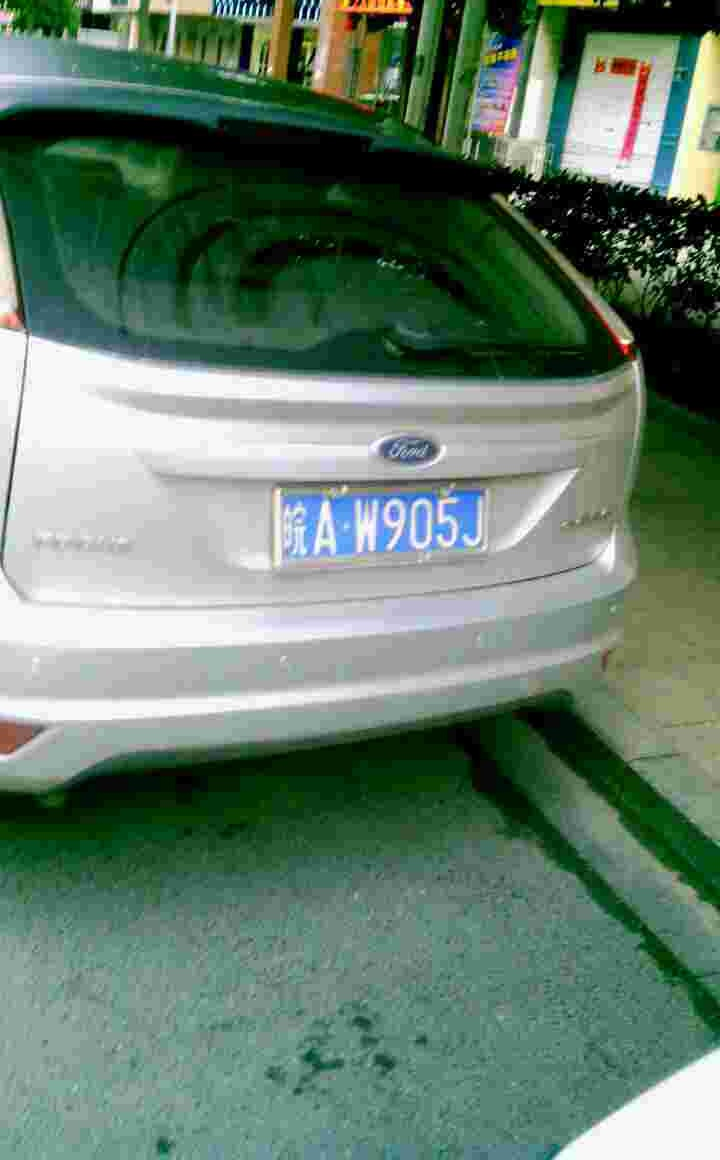car: (275, 494, 491, 550)
